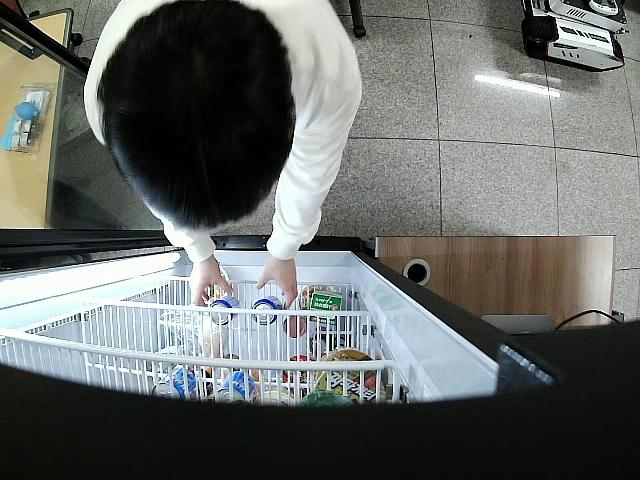00_hand: (187, 260, 235, 318), (256, 257, 301, 310)
